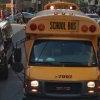Bus: (20, 9, 96, 97)
